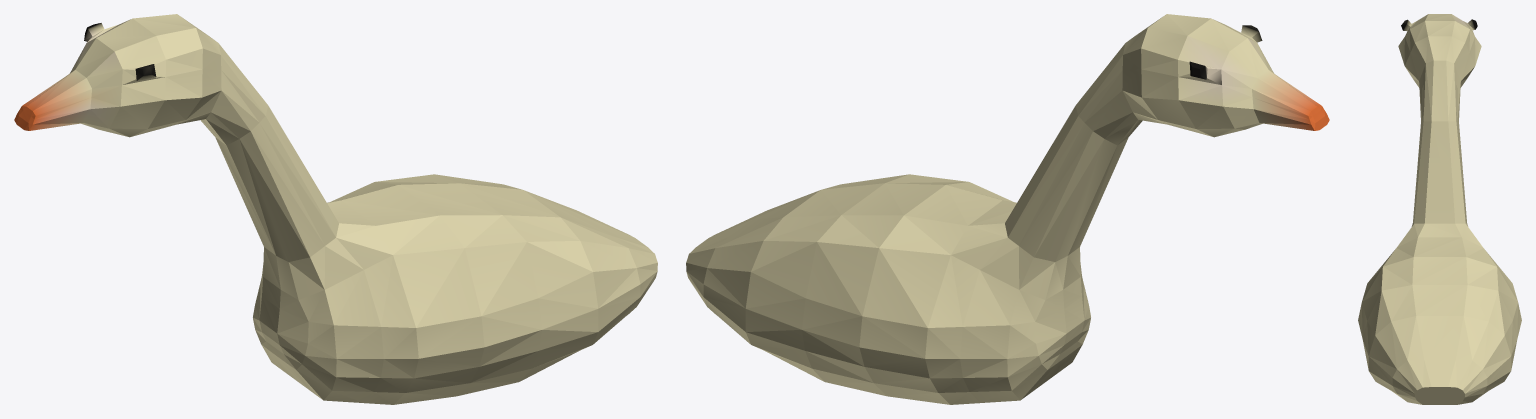
The model's file is goose.dae.
3 renders of one model, left to right at view 1: azimuth 30°, elevation 25°; view 2: azimuth 150°, elevation 25°; view 3: azimuth 270°, elevation 25°, orthographic. The views are drawn at different scales.
Parts seen in each view (by area): view 1: pCube1; view 2: pCube1; view 3: pCube1.
Part boxes in pixels (x1,y1,x2,y2): pCube1: [14, 14, 657, 404]; pCube1: [686, 14, 1329, 404]; pCube1: [1358, 14, 1521, 404].
Size of the model in its own units: 28.38 by 10.27 by 17.87.
